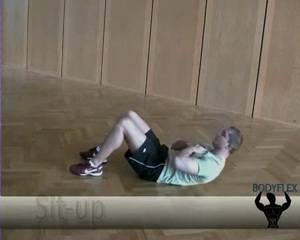sit_up: (59, 114, 240, 184)
